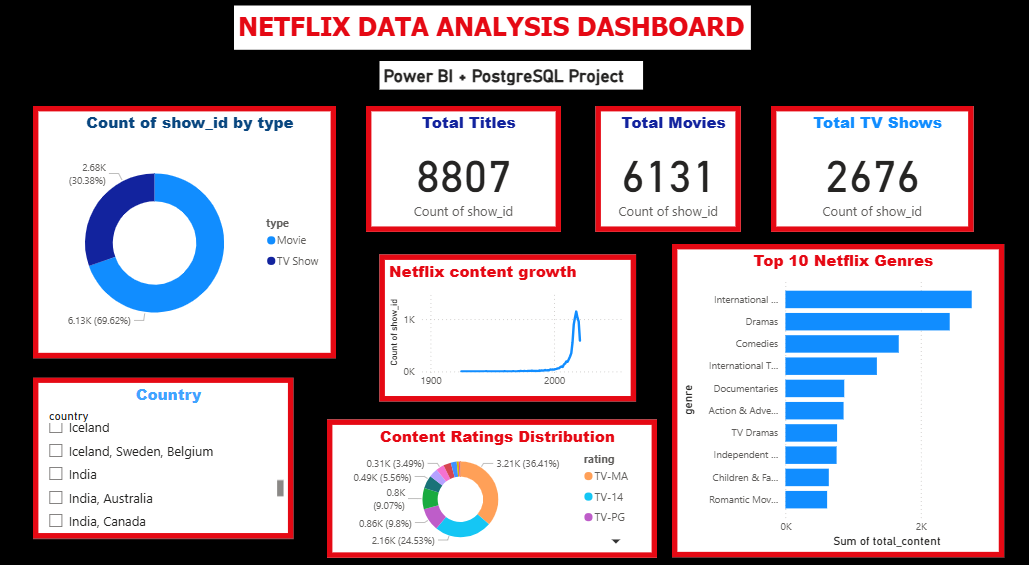

The page's visual inventory and layout, read from the dashboard file:
{"tool":"powerbi","page":{"name":"Page 1","canvas":[1280,720],"ordinal":0},"visuals":[{"type":"donutChart","fields":{"Category":["public netflix.type"],"Y":["CountNonNull(public netflix.show_id)"]},"box":[47.3,143.5,374.1,311.5],"z":0},{"type":"card","title":"Total Titles","fields":{"Values":["CountNonNull(public netflix.show_id)"]},"box":[459.2,144.4,240.7,155.5],"z":1000},{"type":"card","title":"Total Movies","fields":{"Values":["CountNonNull(public netflix.show_id)"]},"box":[742.5,144.4,179.6,155.5],"z":2000},{"type":"card","title":"Total TV Shows","fields":{"Values":["CountNonNull(public netflix.show_id)"]},"box":[959.1,144.4,250,155.5],"z":3000},{"type":"slicer","title":"Country","fields":{"Values":["public netflix.country"]},"box":[47.4,480,321,198.7],"z":4001},{"type":"lineChart","title":"Netflix content growth","fields":{"Category":["public netflix.release_year"],"Y":["CountNonNull(public netflix.show_id)"]},"box":[475.8,327.7,316.6,181.4],"z":4002},{"type":"textbox","box":[296.2,19.8,638.2,55],"z":4003},{"type":"textbox","box":[476.4,88.6,325.2,35.1],"z":4004},{"type":"clusteredBarChart","title":"Top 10 Netflix Genres","fields":{"Category":["Query1.genre"],"Y":["Sum(Query1.total_content)"]},"box":[836.2,314.9,409.7,386.8],"z":4005},{"type":"donutChart","title":"Content Ratings Distribution","fields":{"Category":["public netflix.rating"],"Y":["CountNonNull(public netflix.show_id)"]},"box":[411,531.4,407.3,170.3],"z":4006}]}

Visuals, with their boxes in screenshot pixels (x1, y1, x2, y2), scaled from the page's 1280x720 canvas onto the 1029x565 screenshot:
donutChart - public netflix.type x CountNonNull(public netflix.show_id): <region>38, 113, 339, 357</region>
"Total Titles" card: <region>369, 113, 563, 235</region>
"Total Movies" card: <region>597, 113, 741, 235</region>
"Total TV Shows" card: <region>771, 113, 972, 235</region>
"Country" slicer: <region>38, 377, 296, 533</region>
"Netflix content growth" lineChart: <region>382, 257, 637, 400</region>
textbox: <region>238, 16, 751, 59</region>
textbox: <region>383, 70, 644, 97</region>
"Top 10 Netflix Genres" clusteredBarChart: <region>672, 247, 1002, 551</region>
"Content Ratings Distribution" donutChart: <region>330, 417, 658, 551</region>
